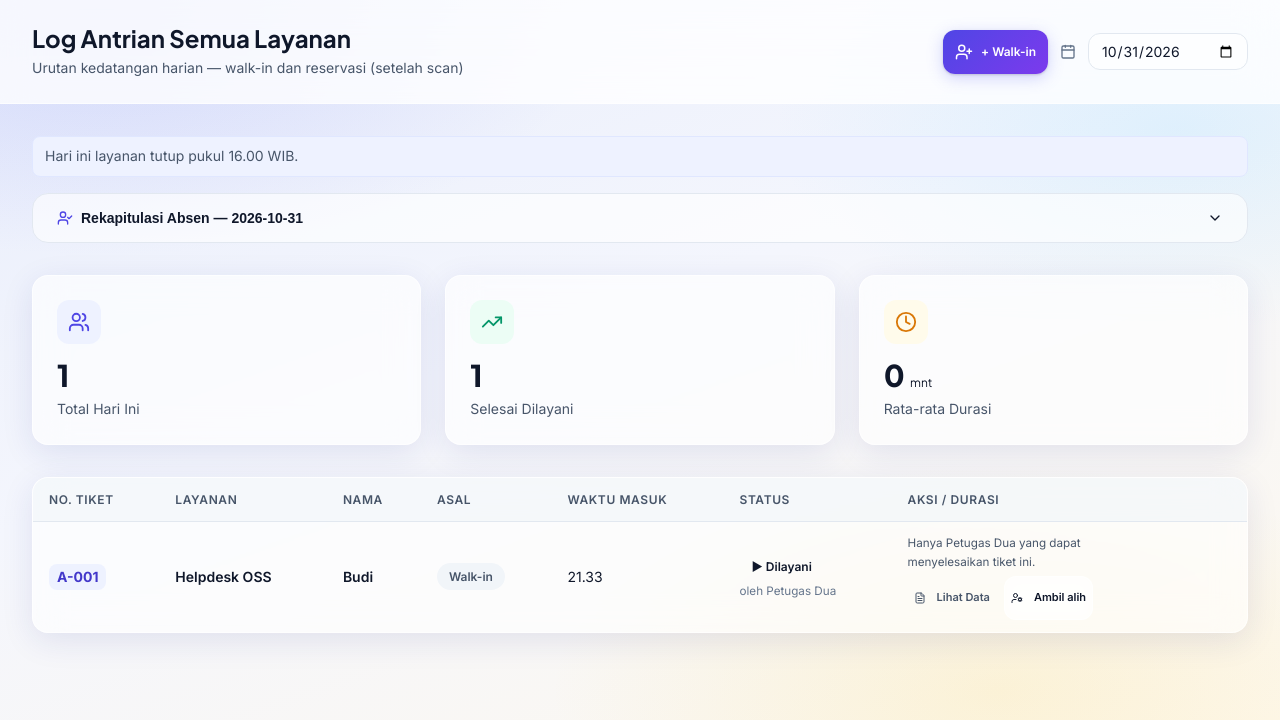
it: Admin antrian: Ambil alih (Admin, rpc admin_ambil_alih) › Admin melihat "Ambil alih" pada tiket orang lain; dialog beralasan memanggil RPC lalu memuat ulang
Click the button "Ambil alih" at x=1048, y=598, box [1004,576,1093,620]
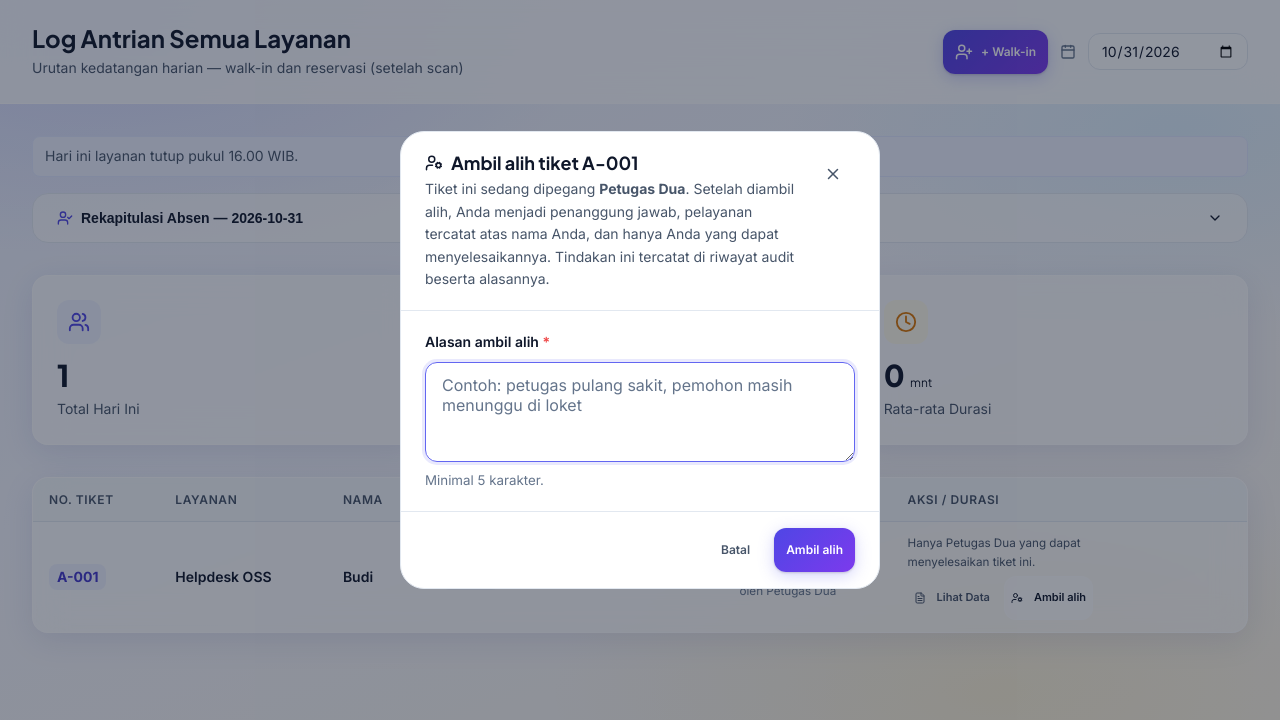
Expected: the text "Petugas Dua" is shown, [599,180,685,197]
Replace the text in the text box labelled "Alasan ambil alih" with "abc" at x=640, y=412, box [425,362,855,462]
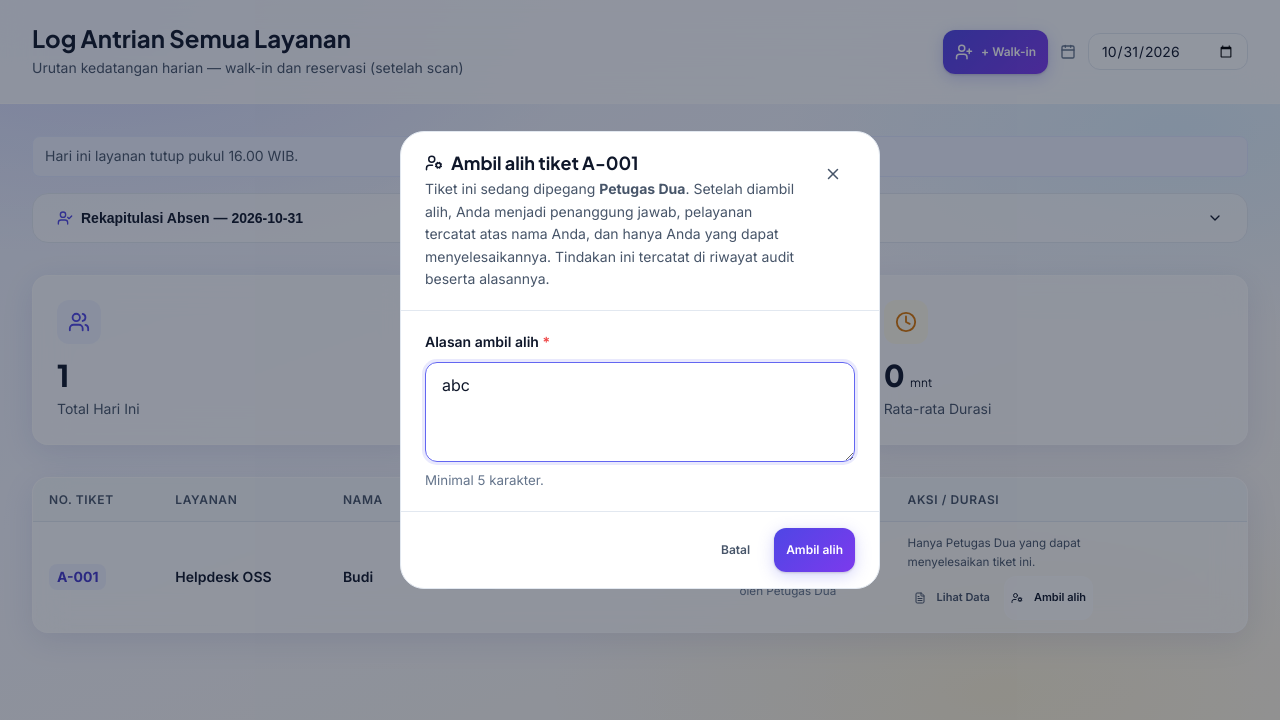
Click the button "Ambil alih" at x=815, y=550, box [774,528,855,572]
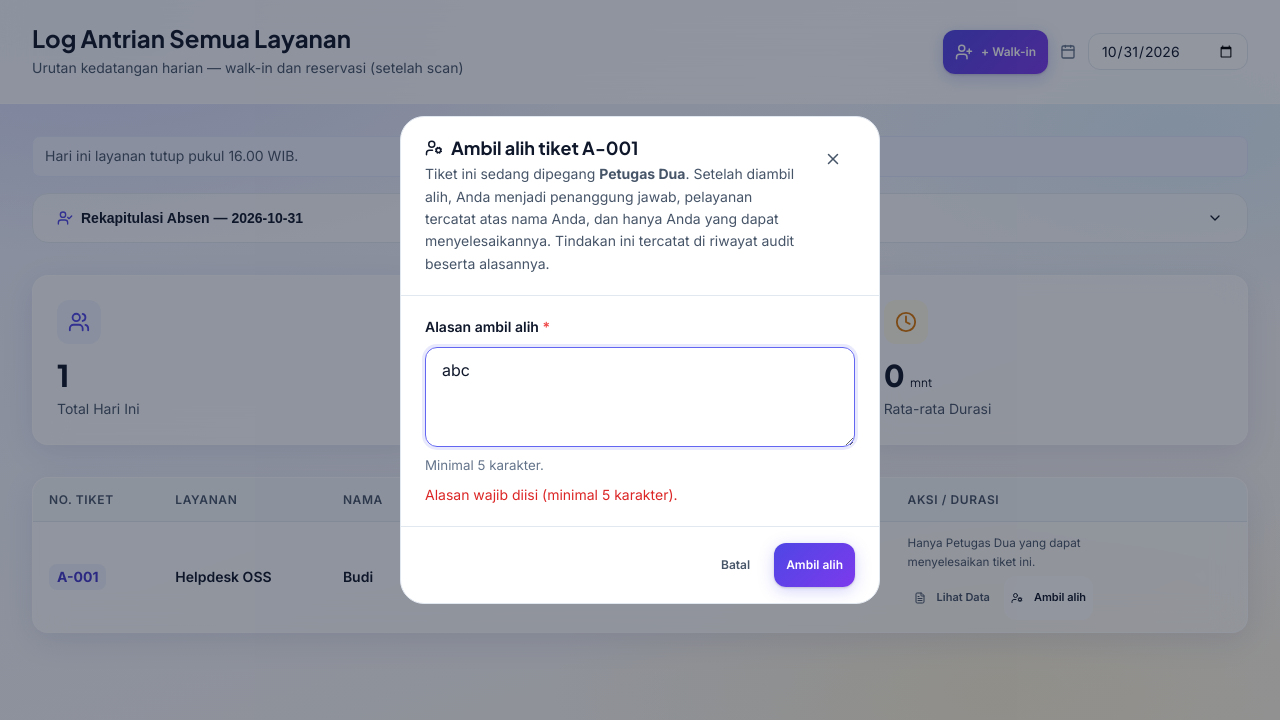
Expected: the message shows "minimal 5 karakter", [425,486,678,503]
Replace the text in the text box labelled "Alasan ambil alih" with "  petugas pulang sakit  " at x=640, y=397, box [425,347,855,447]
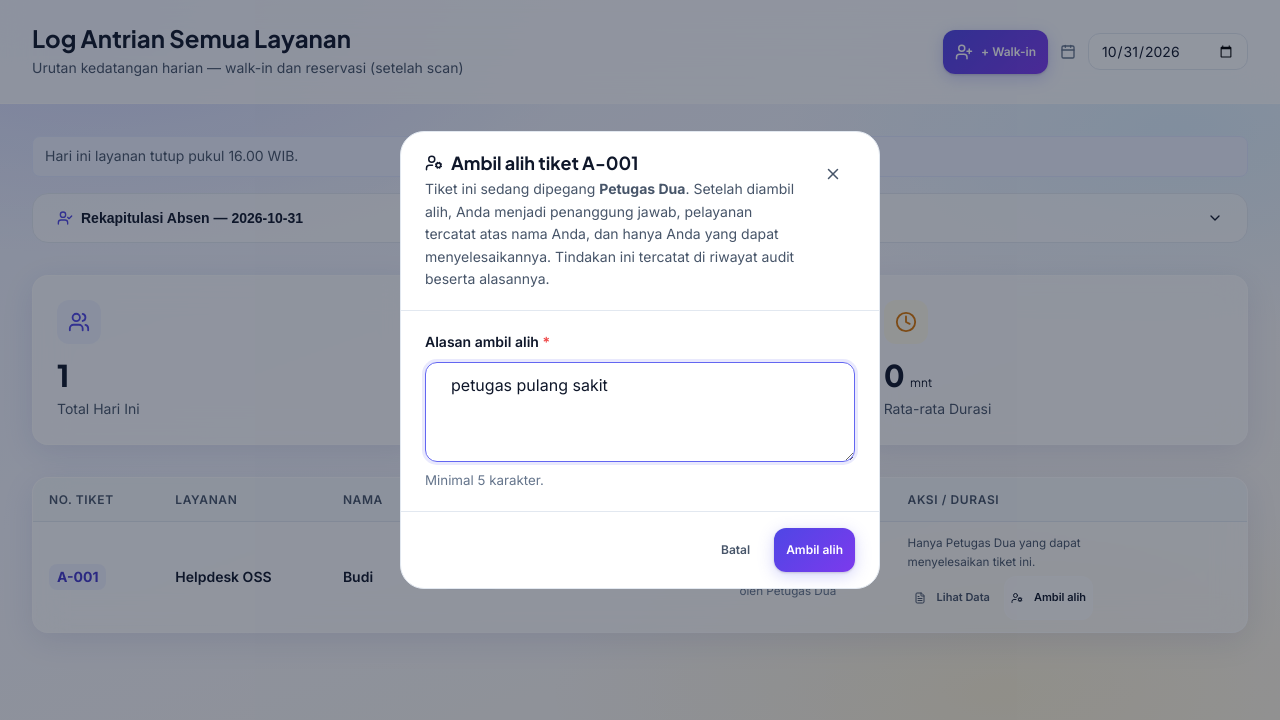
Click the button "Ambil alih" at x=815, y=550, box [774,528,855,572]
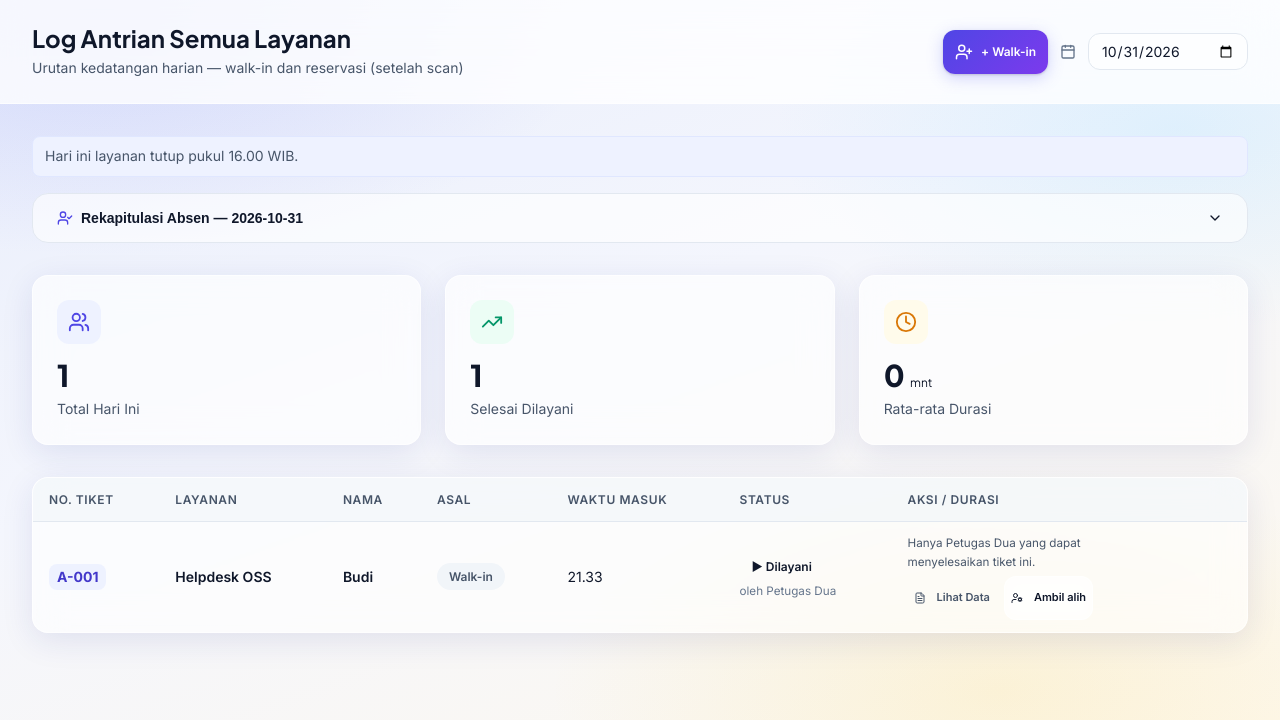
Expected: the dialog is gone
